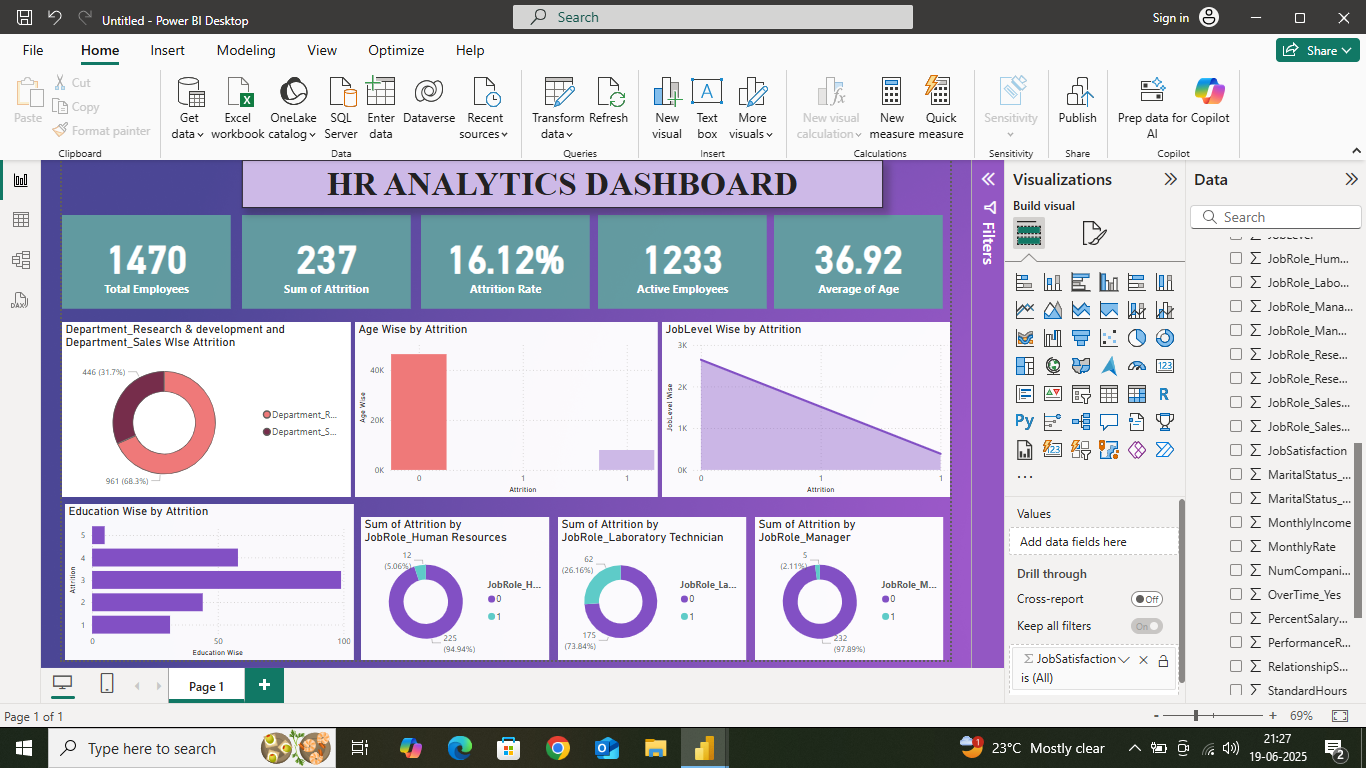

The page's visual inventory and layout, read from the dashboard file:
{"tool":"powerbi","page":{"name":"Page 1","canvas":[1280,720],"ordinal":0},"visuals":[{"type":"card","fields":{"Values":["HR_Cleaned.EmployeeCount"]},"box":[0,79.2,243.4,135.4],"z":0},{"type":"card","fields":{"Values":["HR_Cleaned.Attrition"]},"box":[259.2,79.2,243.4,135.4],"z":1000},{"type":"card","fields":{"Values":["HR_Cleaned.Attrition Rate"]},"box":[517,79.2,243.4,135.4],"z":2000},{"type":"card","fields":{"Values":["HR_Cleaned.Active Employees"]},"box":[771.8,79.2,243.4,135.4],"z":3000},{"type":"card","fields":{"Values":["HR_Cleaned.Age"]},"box":[1025.3,79.2,243.4,135.4],"z":4000},{"type":"donutChart","fields":{"Y":["HR_Cleaned.Department_Research & Development","HR_Cleaned.Department_Sales"]},"box":[0,233.3,416.2,252],"z":5000},{"type":"columnChart","fields":{"Category":["HR_Cleaned.Attrition"],"Y":["HR_Cleaned.Age"]},"box":[421.9,233.3,436.3,252],"z":6000},{"type":"areaChart","fields":{"Category":["HR_Cleaned.Attrition"],"Y":["HR_Cleaned.JobLevel"]},"box":[863.8,233.3,416.2,252],"z":7000},{"type":"clusteredBarChart","fields":{"Category":["HR_Cleaned.Education"],"Y":["HR_Cleaned.Attrition"]},"box":[4.3,495.4,416.2,224.6],"z":8000},{"type":"donutChart","fields":{"Category":["HR_Cleaned.JobRole_Human Resources"],"Y":["HR_Cleaned.Attrition"]},"box":[430.6,514.1,270.7,205.9],"z":9000},{"type":"donutChart","fields":{"Category":["HR_Cleaned.JobRole_Laboratory Technician"],"Y":["HR_Cleaned.Attrition"]},"box":[714.2,514.1,270.7,205.9],"z":10000},{"type":"donutChart","fields":{"Category":["HR_Cleaned.JobRole_Manager"],"Y":["HR_Cleaned.Attrition"]},"box":[997.9,514.1,270.7,205.9],"z":10001},{"type":"textbox","box":[259.2,0,923,69.1],"z":10002}]}

Visuals, with their boxes on the page's 1280x720 design canvas (x1, y1, x2, y2). These are canvas units, not pixel positions in the 1366x768 screenshot, which may show the page scaled, cropped or inside an application window:
card - HR_Cleaned.EmployeeCount: [left=0, top=79, right=243, bottom=215]
card - HR_Cleaned.Attrition: [left=259, top=79, right=503, bottom=215]
card - HR_Cleaned.Attrition Rate: [left=517, top=79, right=760, bottom=215]
card - HR_Cleaned.Active Employees: [left=772, top=79, right=1015, bottom=215]
card - HR_Cleaned.Age: [left=1025, top=79, right=1269, bottom=215]
donutChart - HR_Cleaned.Department_Research & Development x HR_Cleaned.Department_Sales: [left=0, top=233, right=416, bottom=485]
columnChart - HR_Cleaned.Attrition x HR_Cleaned.Age: [left=422, top=233, right=858, bottom=485]
areaChart - HR_Cleaned.Attrition x HR_Cleaned.JobLevel: [left=864, top=233, right=1280, bottom=485]
clusteredBarChart - HR_Cleaned.Education x HR_Cleaned.Attrition: [left=4, top=495, right=420, bottom=720]
donutChart - HR_Cleaned.JobRole_Human Resources x HR_Cleaned.Attrition: [left=431, top=514, right=701, bottom=720]
donutChart - HR_Cleaned.JobRole_Laboratory Technician x HR_Cleaned.Attrition: [left=714, top=514, right=985, bottom=720]
donutChart - HR_Cleaned.JobRole_Manager x HR_Cleaned.Attrition: [left=998, top=514, right=1269, bottom=720]
textbox: [left=259, top=0, right=1182, bottom=69]
